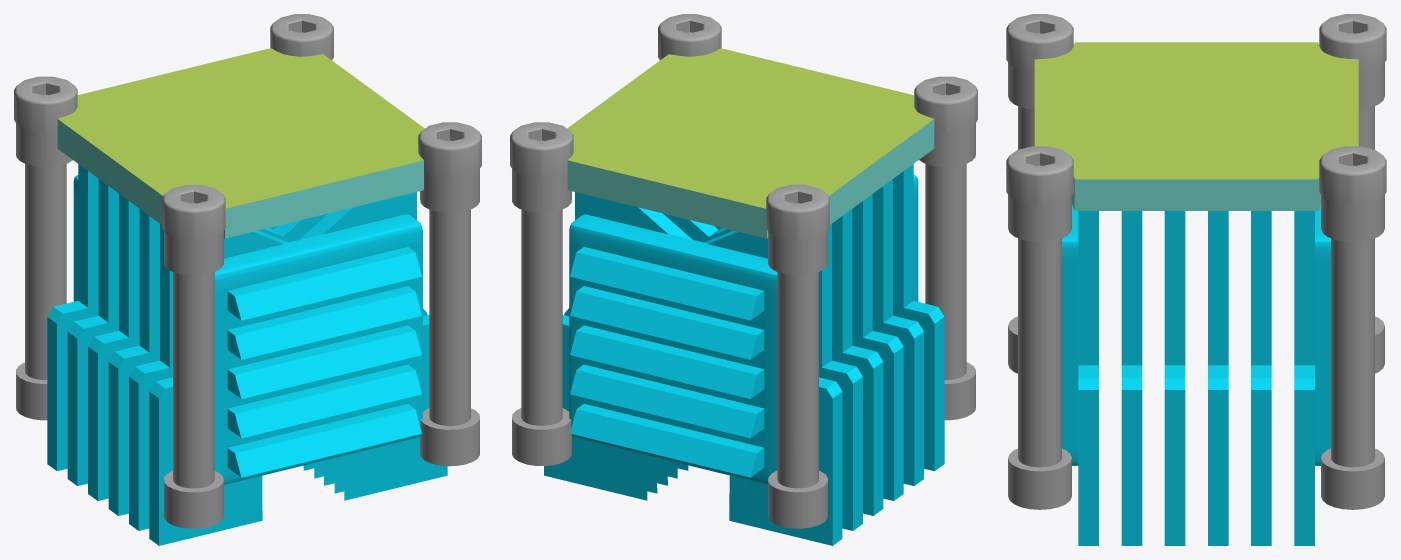
Rendered from Tower.fbx.
3 renders of one model, left to right at view 1: azimuth 30°, elevation 25°; view 2: azimuth 150°, elevation 25°; view 3: azimuth 270°, elevation 25°, orthographic. The views are drawn at different scales.
Visible parts, largest first — view 1: CoreCenter4, Chip, CoreCenter1, Standoff1, Standoff3, Standoff, CoreCenter2, Screw4, Screw1, Screw3, Screw2, CoreCenter3; view 2: CoreCenter3, Chip, CoreCenter1, Standoff, Standoff2, Standoff1, CoreCenter2, Screw3, Screw2, Screw4, Screw1, CoreCenter4; view 3: Chip, CoreCenter2, Standoff3, Standoff2, CoreCenter4, CoreCenter3, Screw1, Screw2, Screw4, Screw3, Standoff1, Standoff.
Part boxes in pixels (box(x1,y1,x2,y2)): CoreCenter4: box(214, 214, 422, 484); Chip: box(57, 48, 424, 238); CoreCenter1: box(47, 164, 293, 545); Standoff1: box(164, 231, 223, 528); Standoff3: box(420, 169, 479, 466); Standoff: box(16, 123, 72, 420); CoreCenter2: box(273, 192, 447, 500); Screw4: box(162, 185, 225, 240); Screw1: box(418, 122, 481, 177); Screw3: box(14, 76, 77, 131); Screw2: box(270, 14, 333, 59); CoreCenter3: box(73, 175, 78, 301); CoreCenter3: box(569, 214, 777, 484); Chip: box(567, 48, 934, 238); CoreCenter1: box(704, 164, 944, 545); Standoff: box(768, 231, 827, 528); Standoff2: box(512, 169, 571, 465); Standoff1: box(919, 123, 975, 420); CoreCenter2: box(544, 192, 718, 500); Screw3: box(766, 184, 829, 240); Screw2: box(510, 122, 573, 177); Screw4: box(914, 76, 977, 131); Screw1: box(658, 14, 721, 59); CoreCenter4: box(913, 175, 918, 301); Chip: box(1034, 42, 1358, 210); CoreCenter2: box(1078, 211, 1314, 545); Standoff3: box(1008, 195, 1071, 509); Standoff2: box(1321, 195, 1384, 509); CoreCenter4: box(1062, 205, 1078, 465); CoreCenter3: box(1315, 205, 1330, 465); Screw1: box(1006, 146, 1073, 204); Screw2: box(1319, 146, 1386, 204); Screw4: box(1006, 14, 1073, 72); Screw3: box(1319, 14, 1386, 71); Standoff1: box(1008, 63, 1034, 373); Standoff: box(1358, 63, 1384, 373).
Size of the model in its own units: 5.87 by 6.45 by 5.86.
